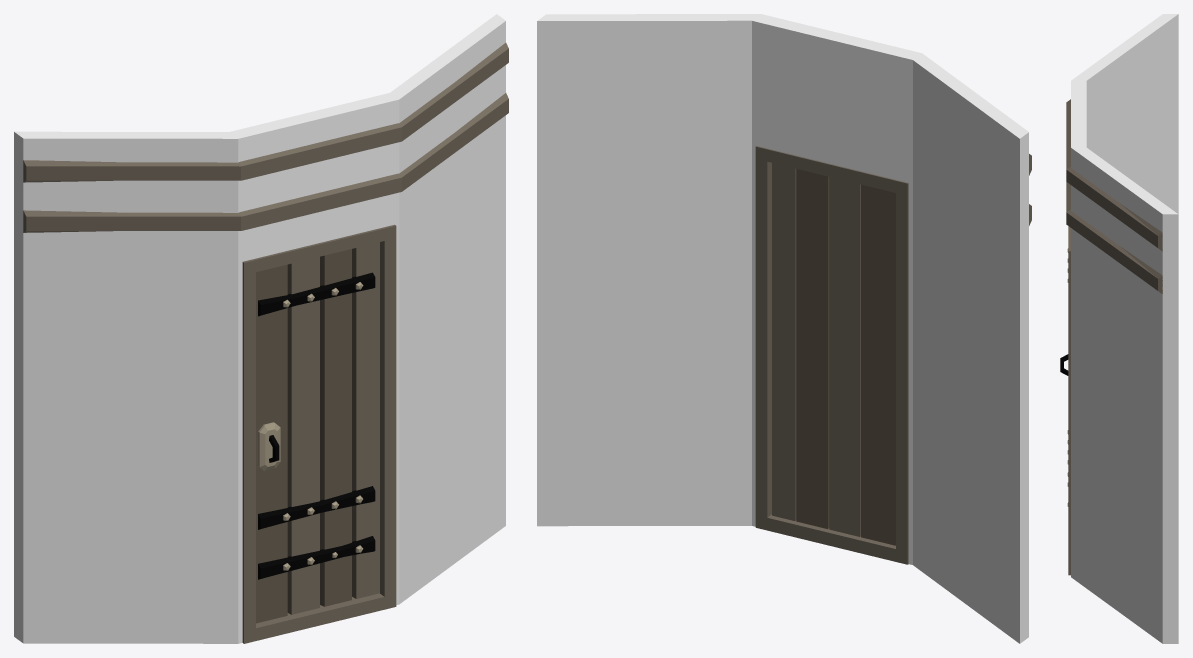
Rendered from DOOR_06_Balkon_1.fbx.
The picture shows the model from 3 angles, left to right: view 1: azimuth 30°, elevation 25°; view 2: azimuth 150°, elevation 25°; view 3: azimuth 270°, elevation 25°; orthographic projection. The views are drawn at different scales.
Parts seen in each view (by area): view 1: DOOR_06_Balkon_1; view 2: DOOR_06_Balkon_1; view 3: DOOR_06_Balkon_1.
Boxes of the visible parts, x1,y1,x2,y2 form: DOOR_06_Balkon_1: [14, 14, 508, 643]; DOOR_06_Balkon_1: [537, 14, 1031, 643]; DOOR_06_Balkon_1: [1060, 14, 1178, 643].
Bounding box in the file's own units: 300 × 300 × 74.81.
